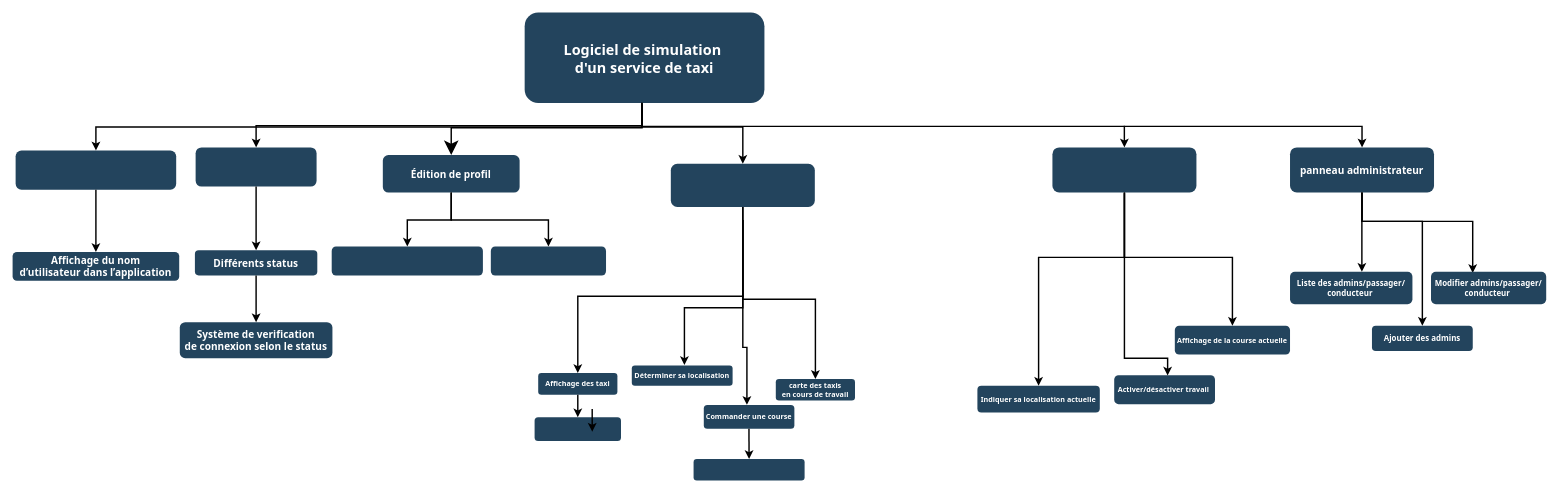
Image size: 1558x492. Some labels were removed from this diagram. Each missing label, with the box of its shape:
Démission ou désinscription: (331, 246, 483, 275)
Modifier informations: (490, 246, 606, 275)
Note moyenne du taxi: (534, 417, 621, 441)
Noter la course et pourboire: (693, 459, 804, 480)
Page client: (670, 163, 814, 207)
Page conducteur: (1052, 147, 1196, 192)
Page de connexion (taxi, usager, administrateur): (15, 150, 176, 189)
Page d’inscription: (195, 147, 316, 186)
